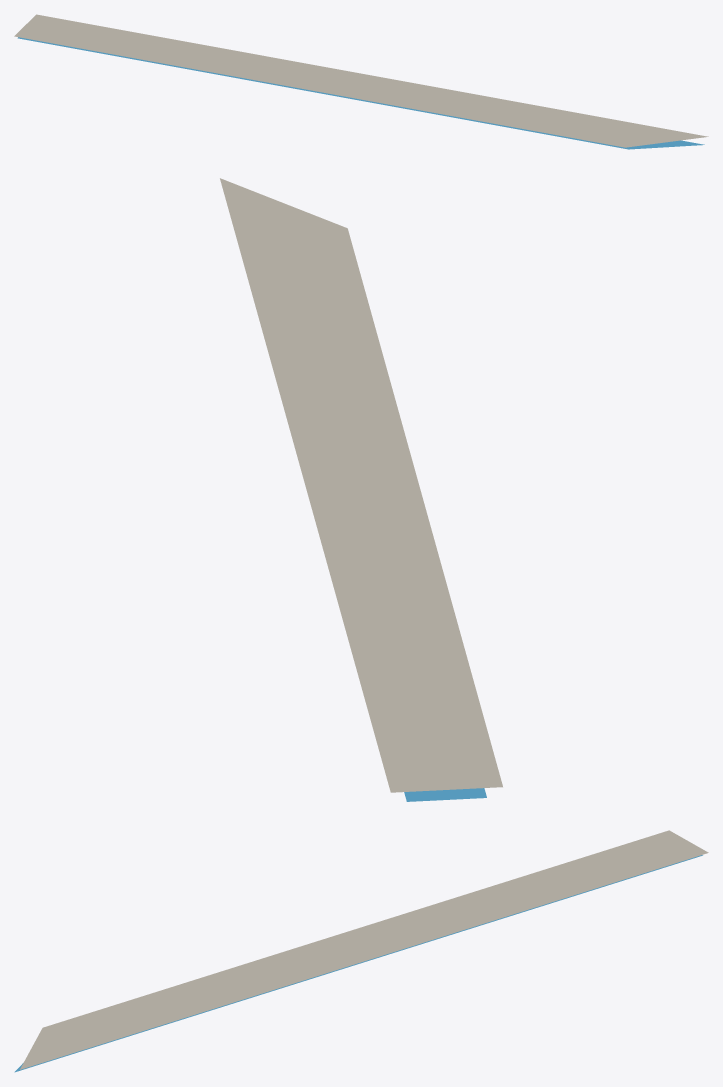
3 views of the same model, one above another, from view 1: azimuth 30°, elevation 25°; view 2: azimuth 150°, elevation 25°; view 3: azimuth 270°, elevation 25° (orthographic). The views are drawn at different scales.
Visible parts, largest first — view 1: estructura_terreno, estructura_agua; view 2: estructura_terreno; view 3: estructura_terreno, estructura_agua.
Part boxes in pixels (<box>): estructura_terreno: <box>14,14,708,147</box>; estructura_agua: <box>17,37,704,149</box>; estructura_terreno: <box>220,178,502,792</box>; estructura_terreno: <box>20,830,708,1069</box>; estructura_agua: <box>14,855,702,1072</box>.
Size of the model in its own units: 35.84 by 0.41 by 43.91.
